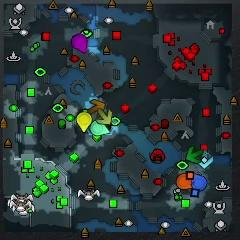p1: (190, 172, 208, 192)
p2: (91, 122, 110, 138)
p3: (73, 34, 88, 52)
p4: (77, 111, 92, 133)
p5: (176, 171, 195, 190)
x2: (95, 107, 112, 125)
x3: (199, 151, 214, 170)
x4: (186, 146, 203, 165)
x5: (86, 99, 105, 114)
